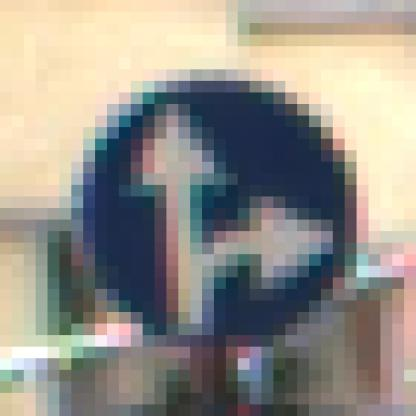Straight or Right: (61, 71, 358, 360)
